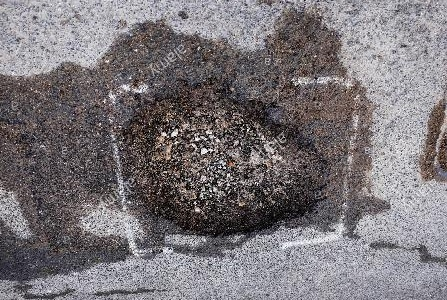pothole: (116, 80, 333, 242)
